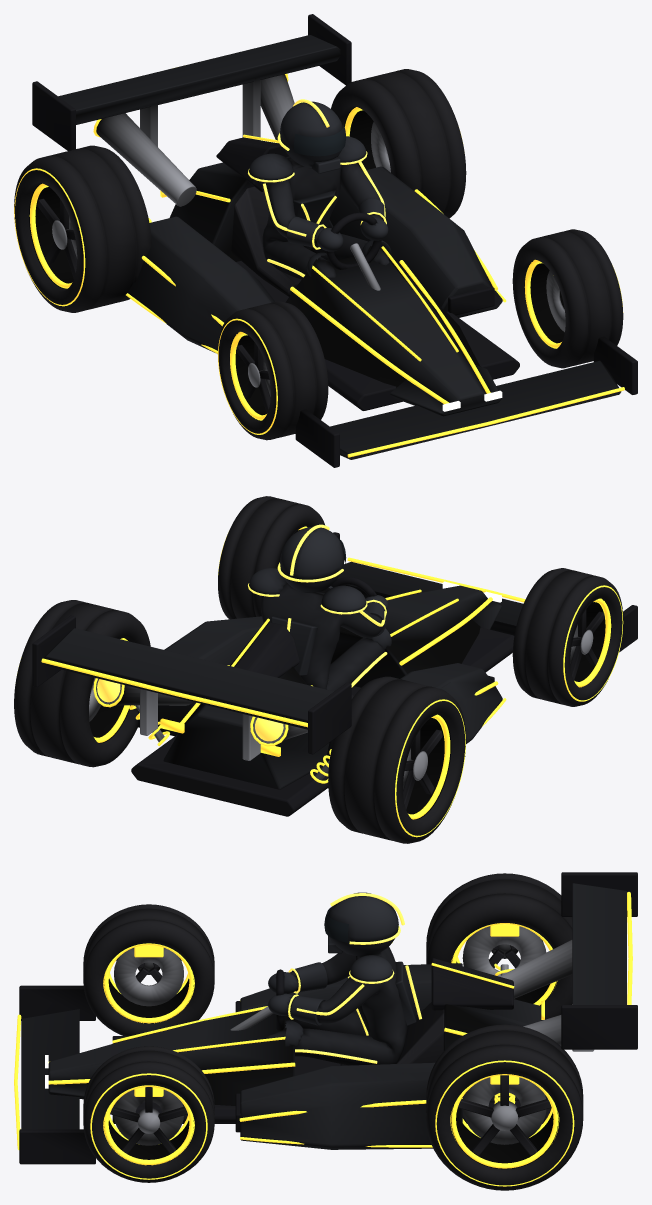
File: kart_hi.glb
The picture shows the model from 3 angles, top to bottom: view 1: azimuth 30°, elevation 25°; view 2: azimuth 150°, elevation 25°; view 3: azimuth 270°, elevation 25°; orthographic projection.
Parts seen in each view (by area): view 1: VEHICLE_kart_BODY, WHEEL_RL_TIRE, VEHICLE_kart_BODY_DARK, WHEEL_RR_TIRE, WHEEL_FR_TIRE, WHEEL_FL_TIRE, VEHICLE_kart_METAL, VEHICLE_kart_SUIT, VEHICLE_kart_TRIM, VEHICLE_kart_ARMOR, VEHICLE_kart_SEAT, WHEEL_RL_RIM (+11 smaller); view 2: VEHICLE_kart_BODY, WHEEL_RL_TIRE, VEHICLE_kart_BODY_DARK, WHEEL_RR_TIRE, WHEEL_FL_TIRE, WHEEL_FR_TIRE, VEHICLE_kart_SUIT, VEHICLE_kart_TRIM, VEHICLE_kart_ARMOR, VEHICLE_kart_HELMET, VEHICLE_kart_METAL, WHEEL_RL_RIM (+6 smaller); view 3: VEHICLE_kart_BODY, VEHICLE_kart_BODY_DARK, WHEEL_RR_TIRE, WHEEL_FR_TIRE, WHEEL_FL_TIRE, WHEEL_RL_TIRE, VEHICLE_kart_SUIT, VEHICLE_kart_ARMOR, VEHICLE_kart_TRIM, WHEEL_RR_RIM, WHEEL_RR_METAL, VEHICLE_kart_HELMET (+14 smaller).
Part boxes in pixels (x1,y1,x2,y2): VEHICLE_kart_BODY: (58, 35, 621, 459); WHEEL_RL_TIRE: (14, 145, 151, 312); VEHICLE_kart_BODY_DARK: (32, 14, 637, 467); WHEEL_RR_TIRE: (331, 69, 466, 218); WHEEL_FR_TIRE: (512, 229, 623, 368); WHEEL_FL_TIRE: (218, 301, 328, 440); VEHICLE_kart_METAL: (96, 74, 380, 290); VEHICLE_kart_SUIT: (261, 156, 389, 279); VEHICLE_kart_TRIM: (93, 73, 624, 457); VEHICLE_kart_ARMOR: (249, 136, 391, 276); VEHICLE_kart_SEAT: (231, 186, 301, 296); WHEEL_RL_RIM: (29, 183, 77, 288); VEHICLE_kart_BODY: (43, 561, 523, 789); WHEEL_RL_TIRE: (328, 676, 466, 843); VEHICLE_kart_BODY_DARK: (32, 532, 637, 816); WHEEL_RR_TIRE: (14, 600, 150, 767); WHEEL_FL_TIRE: (512, 568, 623, 706); WHEEL_FR_TIRE: (218, 496, 324, 619); VEHICLE_kart_SUIT: (261, 583, 384, 691); VEHICLE_kart_TRIM: (41, 557, 525, 783); VEHICLE_kart_ARMOR: (249, 568, 391, 675); VEHICLE_kart_HELMET: (280, 526, 344, 592); VEHICLE_kart_METAL: (96, 678, 329, 780); WHEEL_RL_RIM: (403, 714, 451, 819); VEHICLE_kart_BODY: (21, 883, 626, 1149); VEHICLE_kart_BODY_DARK: (19, 872, 637, 1164); WHEEL_RR_TIRE: (426, 1024, 583, 1190); WHEEL_FR_TIRE: (83, 1046, 214, 1182); WHEEL_FL_TIRE: (83, 904, 214, 1035); WHEEL_RL_TIRE: (426, 873, 572, 1020); VEHICLE_kart_SUIT: (267, 946, 408, 1065); VEHICLE_kart_ARMOR: (268, 955, 416, 1046); VEHICLE_kart_TRIM: (14, 892, 632, 1149); WHEEL_RR_RIM: (451, 1075, 558, 1169); WHEEL_RR_METAL: (463, 1077, 546, 1144); VEHICLE_kart_HELMET: (328, 892, 398, 956).
Bounding box in the file's own units: 2.38 × 1.27 × 3.42.
